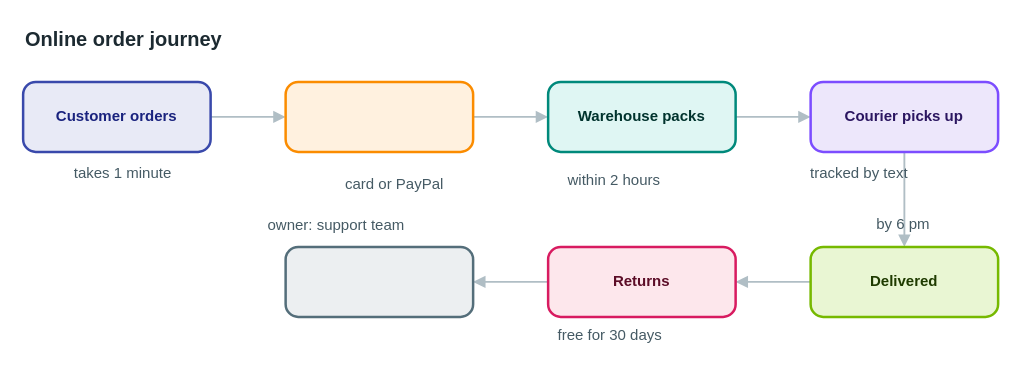
Some shapes in this 1020 by 366 pixel diagram are drawn without their labels. Each missing label, with the box of its shape:
Help desk: (284, 245, 474, 318)
Payment: (284, 80, 474, 152)
